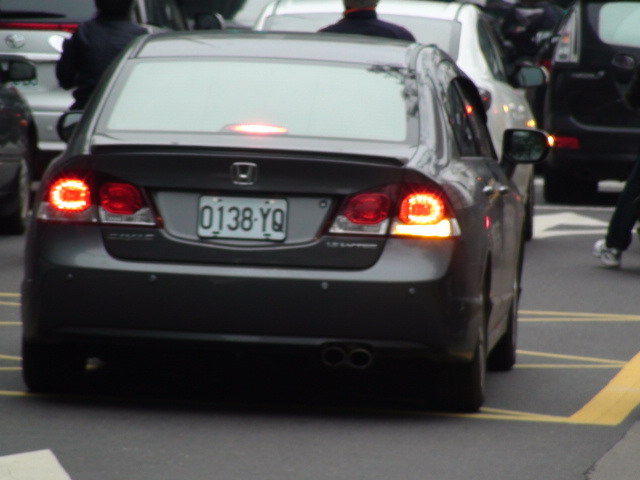plate: (195, 192, 292, 244)
